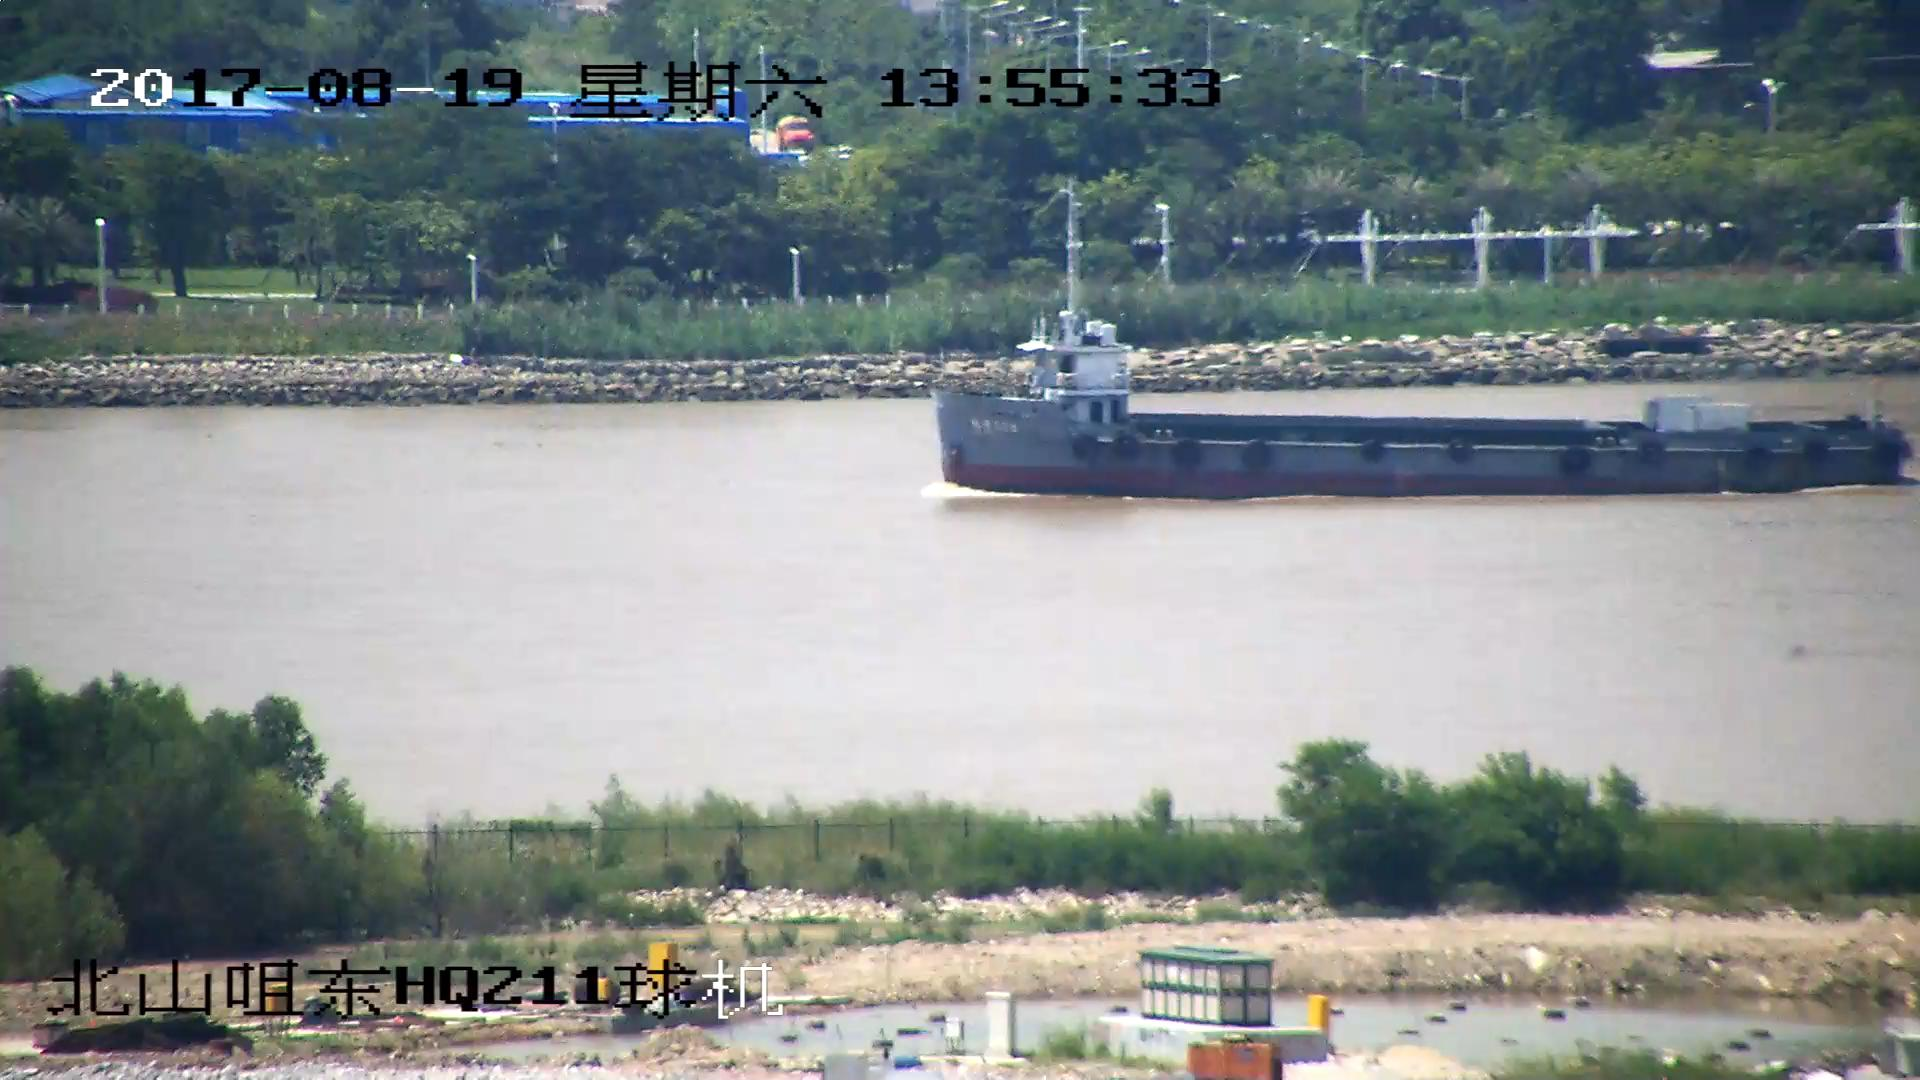general cargo ship: (932, 315, 1910, 494)
